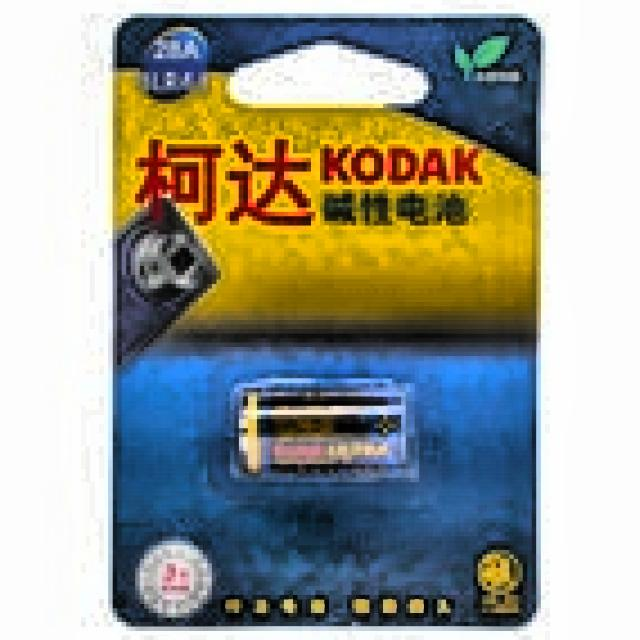Non-Valuable Waste - Batteries: (236, 378, 414, 477)
